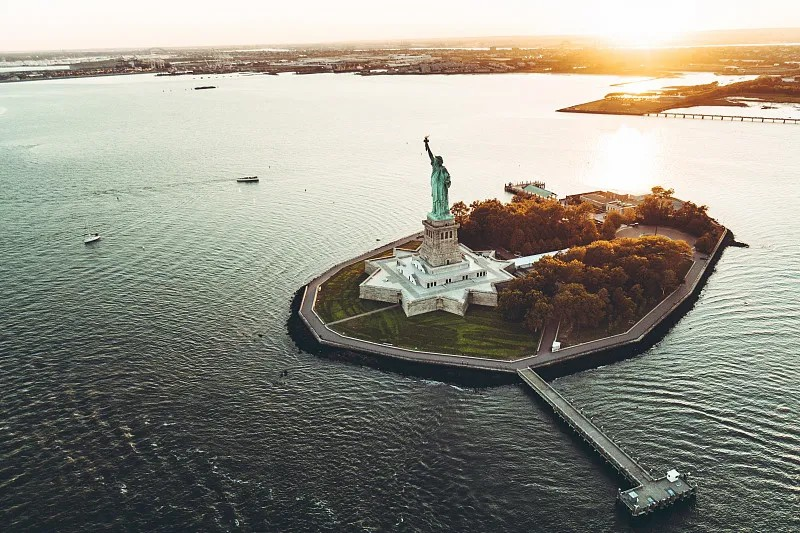SL: (418, 135, 460, 267)
